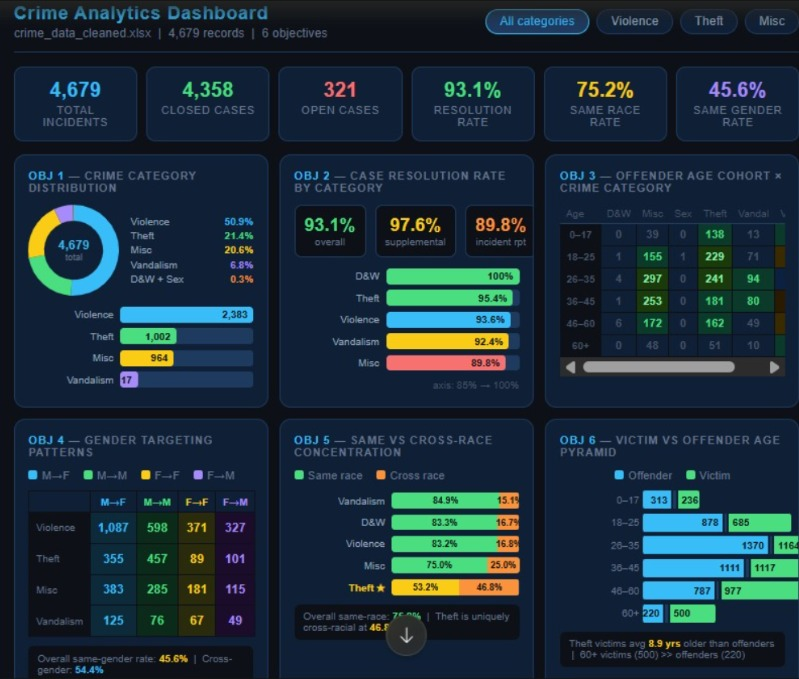

What the dashboard file says about the page in this screenshot:
{"tool":"tableau","page":{"name":"Dashboard 2","canvas":[1000,1000],"units":"permille","ordinal":1},"visuals":[{"type":"title","box":[7.4,0,991,125.7]},{"type":"filter","title":"OBJ2 - Case Resolution Rate per Category","param":"[federated.1ct35691nzrczl1dvcpxo1ohbglk].[none:Category:nk]","box":[855.4,31.7,120.8,64.6]},{"type":"worksheet","title":"Total incidents","mark":"Automatic","box":[25.9,128.1,144.8,78.7]},{"type":"worksheet","title":"Closed Cases","mark":"Automatic","box":[186.5,128.1,144.8,78.7]},{"type":"worksheet","title":"Open Cases","mark":"Automatic","box":[353.7,128.1,144.8,78.7]},{"type":"worksheet","title":"Resolution Rate","mark":"Automatic","box":[517.2,128.1,144.8,78.7]},{"type":"worksheet","title":"Same Race %","mark":"Automatic","box":[678.9,128.1,144.8,78.7]},{"type":"worksheet","title":"Same Gender Rate","mark":"Automatic","box":[844.3,128.1,144.8,78.7]},{"type":"text","box":[207.6,139.8,100.2,91.7]},{"type":"text","box":[354.2,146.9,141.2,77.6]},{"type":"text","box":[29,150.4,140,75.2]},{"type":"text","box":[847.3,151.6,140.6,69.3]},{"type":"text","box":[681.4,152.8,140,67]},{"type":"text","box":[526.2,153.9,120.1,61.1]},{"type":"worksheet","title":"OBJ3 - Offender Age Comfort x Crime Category","mark":"Square","rows":["Offender_Age_Band"],"cols":["Category"],"box":[653.1,215.7,337.9,356.4]},{"type":"worksheet","title":"OBJ1- Crime Category Disribution","box":[7.9,216.8,222.5,356.4]},{"type":"worksheet","title":"OBJ2 - Case Resolution Rate per Category","mark":"Bar","rows":["Category"],"cols":["Calculation_0289225089290240"],"box":[235.7,217.4,416.8,394.8]},{"type":"text","box":[93.8,384.2,54,44.6]},{"type":"image","param":"C:/Users/ayush/OneDrive/Desktop/WhatsApp Image 2026-04-09 at 8.53.52 PM.png","box":[8.4,539.4,67,35.2]},{"type":"worksheet","title":"OBJ  4  - Gender Targeting Patterns","mark":"Bar","rows":["Category"],"cols":["Calculation_2010512167583748","Category"],"box":[2.6,589.9,253.2,401.9]},{"type":"worksheet","title":"OBJ 5  - Same vs Cross-Race Concentration","mark":"Automatic","rows":["Category"],"cols":["Category"],"box":[264.8,589.9,387.2,413.6]},{"type":"legend","title":"OBJ 5  - Same vs Cross-Race Concentration","param":"[federated.1ct35691nzrczl1dvcpxo1ohbglk].[none:Calculation_1208968546885635:nk]","box":[266.8,659.2,271,27]}]}

Visuals, with their boxes on the dashboard's canvas, which has no fixed pixel size, in thousandths of its width and height (x1, y1, x2, y2). These are canvas units, not pixel positions in the 799x679 screenshot, which may show the page scaled, cropped or inside an application window:
title: <region>7, 0, 998, 126</region>
"OBJ2 - Case Resolution Rate per Category" filter: <region>855, 32, 976, 96</region>
"Total incidents" worksheet: <region>26, 128, 171, 207</region>
"Closed Cases" worksheet: <region>186, 128, 331, 207</region>
"Open Cases" worksheet: <region>354, 128, 498, 207</region>
"Resolution Rate" worksheet: <region>517, 128, 662, 207</region>
"Same Race %" worksheet: <region>679, 128, 824, 207</region>
"Same Gender Rate" worksheet: <region>844, 128, 989, 207</region>
text: <region>208, 140, 308, 232</region>
text: <region>354, 147, 495, 224</region>
text: <region>29, 150, 169, 226</region>
text: <region>847, 152, 988, 221</region>
text: <region>681, 153, 821, 220</region>
text: <region>526, 154, 646, 215</region>
"OBJ3 - Offender Age Comfort x Crime Category" worksheet (Square marks): <region>653, 216, 991, 572</region>
"OBJ1- Crime Category Disribution" worksheet: <region>8, 217, 230, 573</region>
"OBJ2 - Case Resolution Rate per Category" worksheet (Bar marks): <region>236, 217, 652, 612</region>
text: <region>94, 384, 148, 429</region>
image: <region>8, 539, 75, 575</region>
"OBJ  4  - Gender Targeting Patterns" worksheet (Bar marks): <region>3, 590, 256, 992</region>
"OBJ 5  - Same vs Cross-Race Concentration" worksheet: <region>265, 590, 652, 1004</region>
"OBJ 5  - Same vs Cross-Race Concentration" legend: <region>267, 659, 538, 686</region>
